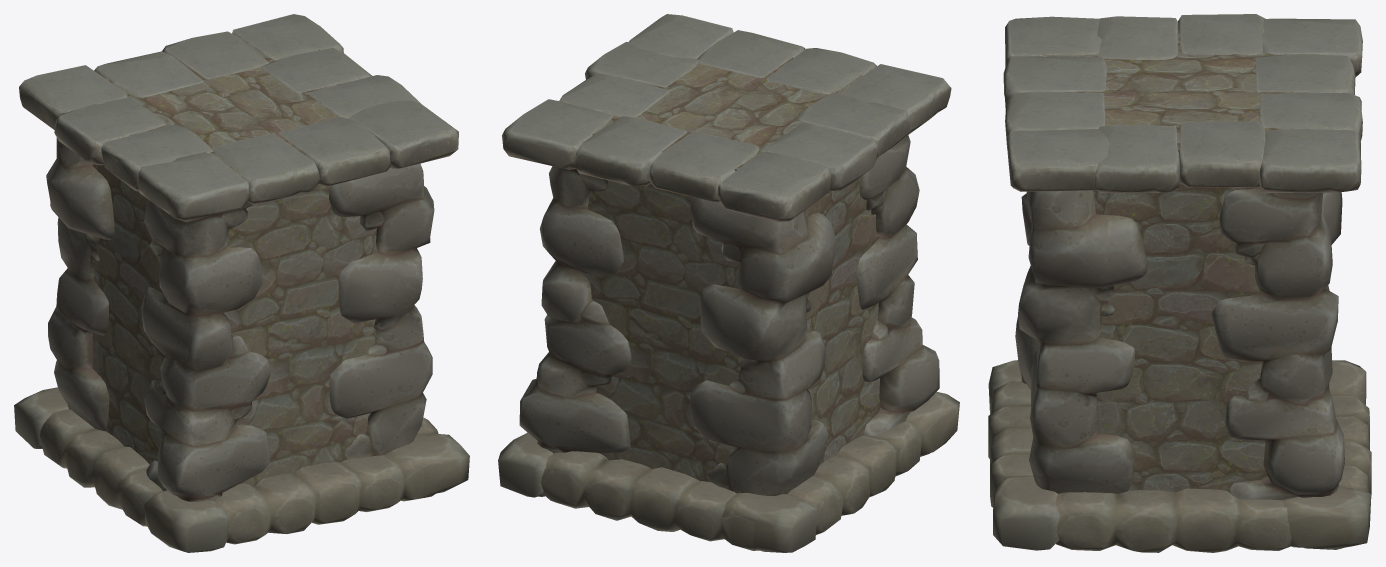
File: SM_FW01_Ruins_Int_Pillar_A_2x3_01.fbx
The picture shows the model from 3 angles, left to right: view 1: azimuth 30°, elevation 25°; view 2: azimuth 150°, elevation 25°; view 3: azimuth 270°, elevation 25°; orthographic projection. The views are drawn at different scales.
Visible parts, largest first — view 1: SM_FW01_Ruins_Int_Pillar_A_2x3_01_LOD0, SM_FW01_Ruins_Int_Pillar_A_2x3_01; view 2: SM_FW01_Ruins_Int_Pillar_A_2x3_01_LOD0, SM_FW01_Ruins_Int_Pillar_A_2x3_01; view 3: SM_FW01_Ruins_Int_Pillar_A_2x3_01_LOD0, SM_FW01_Ruins_Int_Pillar_A_2x3_01.
Boxes of the visible parts, x1=… form: SM_FW01_Ruins_Int_Pillar_A_2x3_01_LOD0: x1=14, y1=14, x2=469, y2=552; SM_FW01_Ruins_Int_Pillar_A_2x3_01: x1=92, y1=44, x2=377, y2=485; SM_FW01_Ruins_Int_Pillar_A_2x3_01_LOD0: x1=498, y1=14, x2=959, y2=552; SM_FW01_Ruins_Int_Pillar_A_2x3_01: x1=584, y1=40, x2=881, y2=482; SM_FW01_Ruins_Int_Pillar_A_2x3_01_LOD0: x1=988, y1=14, x2=1371, y2=552; SM_FW01_Ruins_Int_Pillar_A_2x3_01: x1=1043, y1=33, x2=1317, y2=492.
Size of what is drawn, in the model's own units: 2.7 by 3.11 by 2.78.
